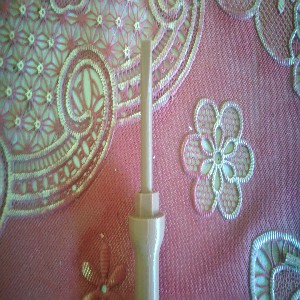obeng: (127, 38, 165, 300)
